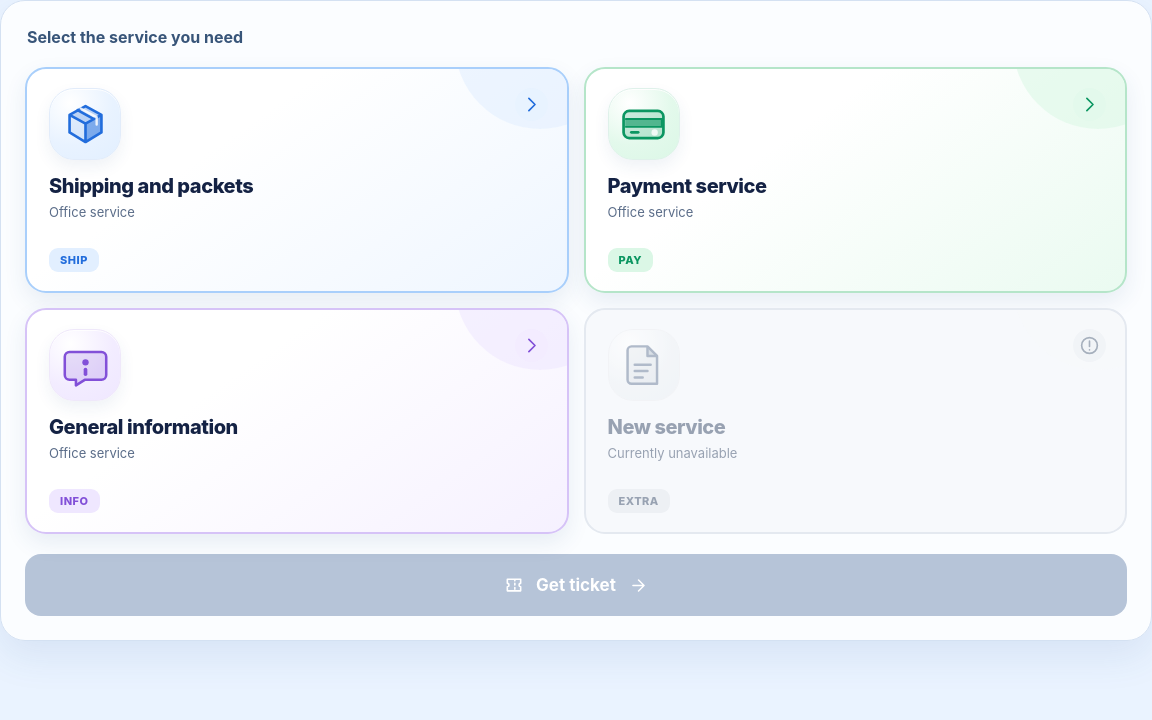
ServiceSelector › getting a ticket › shows the error and lets the customer retry when the request fails
Click the radio button labelled "payment service Office service PAY": (644, 124) top-left (584, 67), bottom-right (1127, 293)
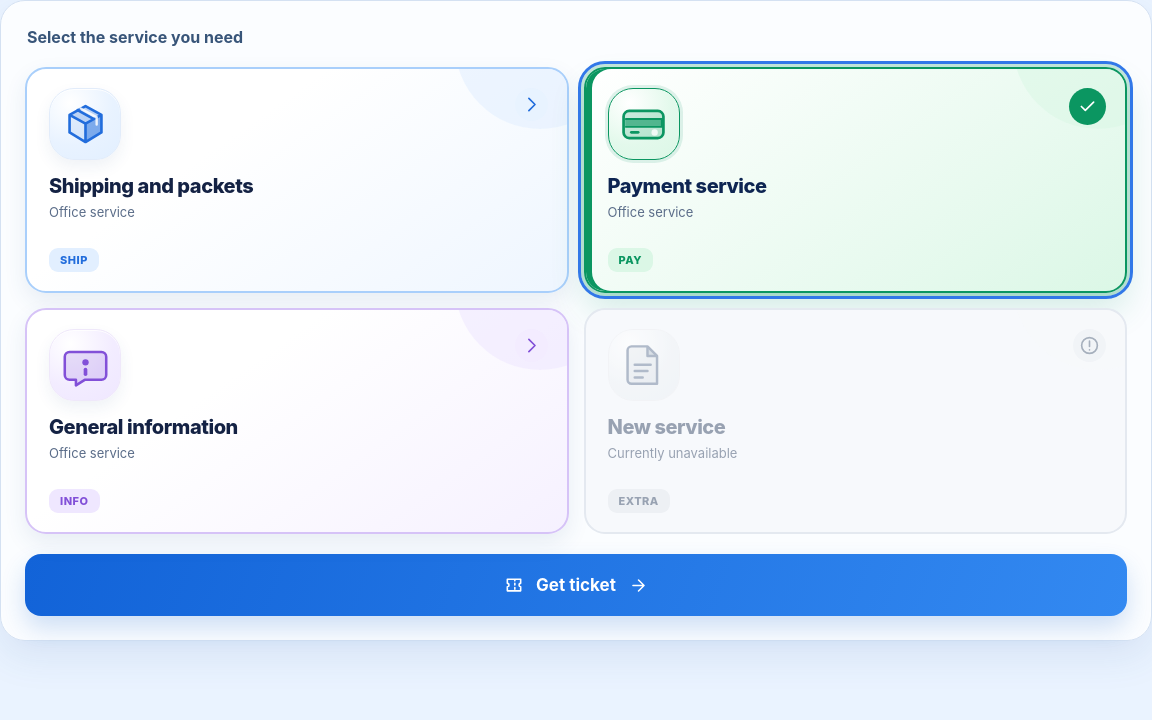
Click the button "Get ticket": (576, 585) top-left (25, 554), bottom-right (1127, 616)
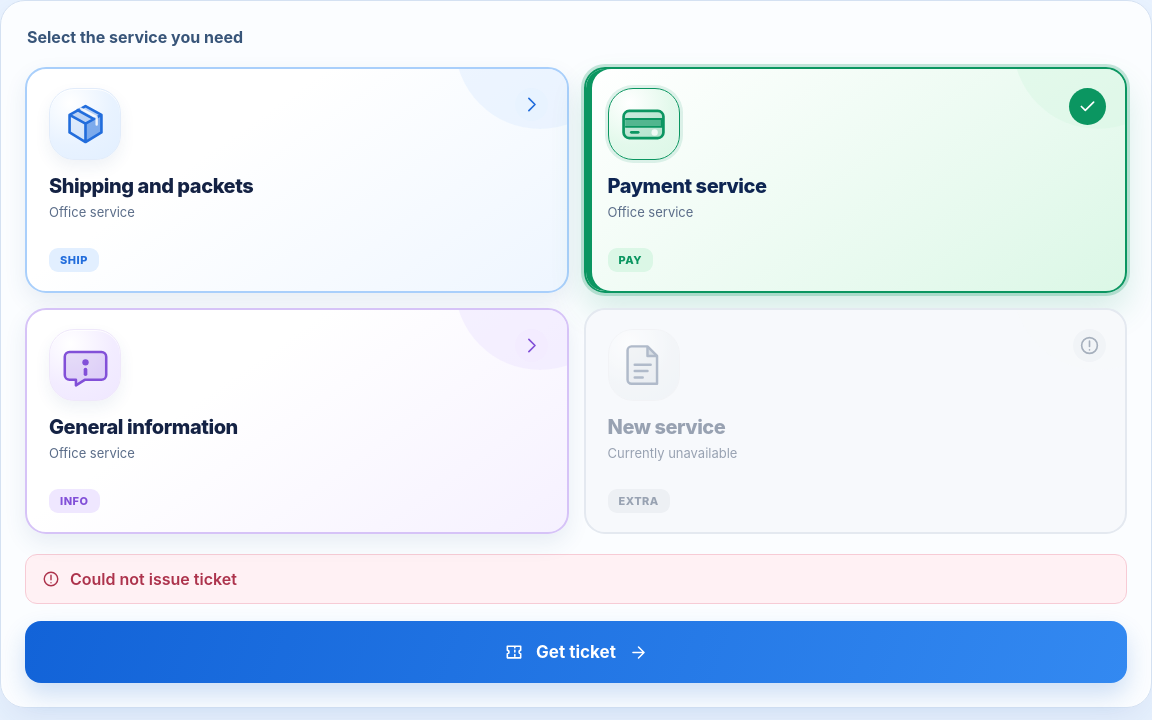
Expected: the button "Get ticket" is enabled
Expected: the message reads "Could not issue ticket", top-left (70, 569), bottom-right (237, 589)
Click the button "Get ticket": (576, 652) top-left (25, 621), bottom-right (1127, 683)
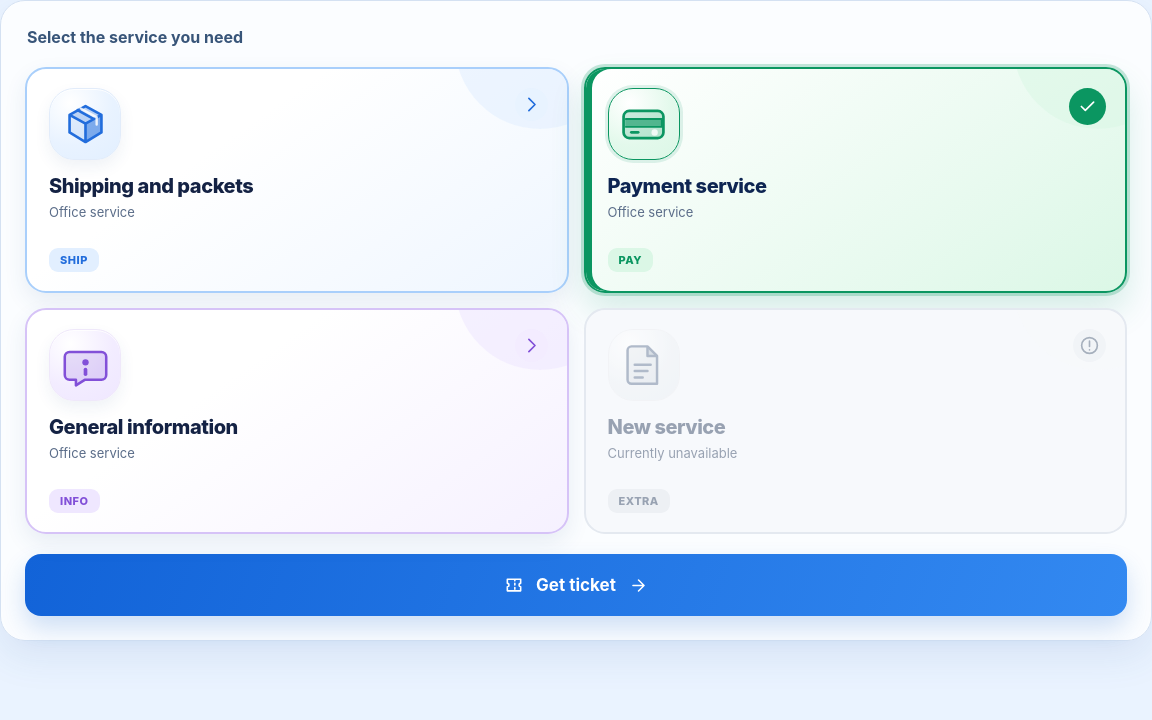
Expected: the message "Could not issue ticket" is gone
